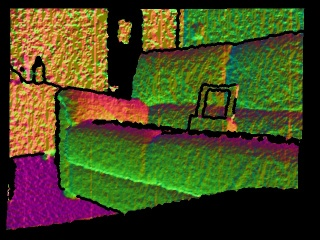station: (187, 82, 239, 135)
